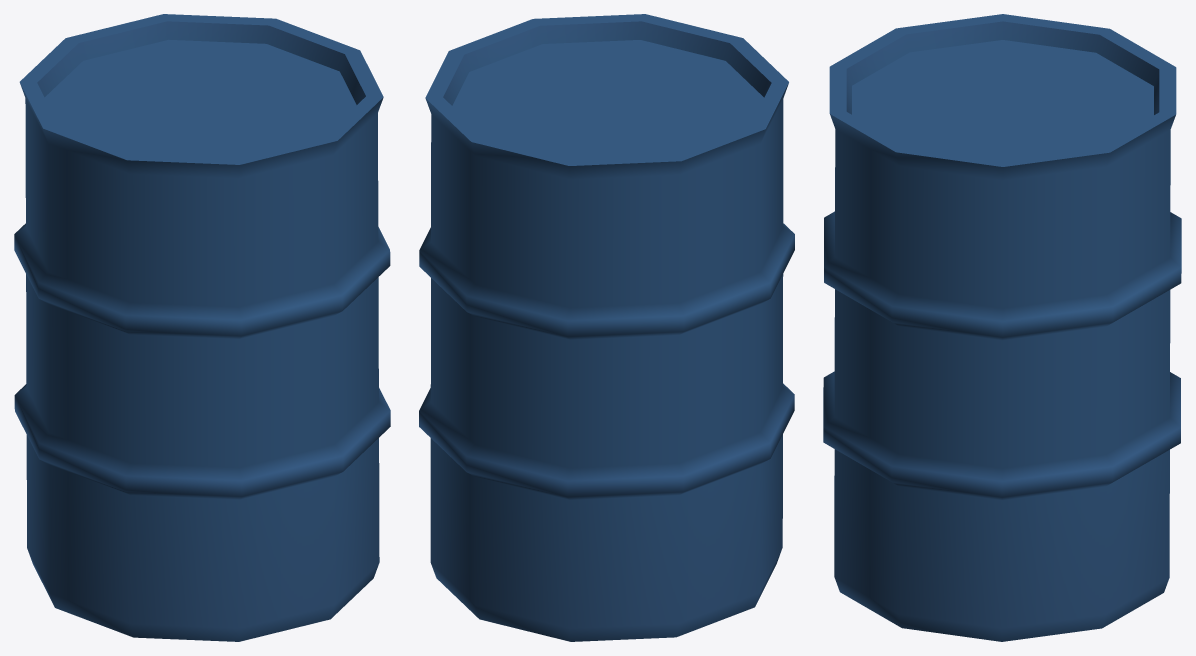
The model's file is yard_drum-yFq4kyEz.glb.
3 views of the same model, side by side, from view 1: azimuth 30°, elevation 25°; view 2: azimuth 150°, elevation 25°; view 3: azimuth 270°, elevation 25° (orthographic).
Parts seen in each view (by area): view 1: yard_drum; view 2: yard_drum; view 3: yard_drum.
Part boxes in pixels (<box>): yard_drum: <box>14,14,390,641</box>; yard_drum: <box>419,14,794,641</box>; yard_drum: <box>823,14,1181,641</box>.
Bounding box in the file's own units: 0.6408 × 0.9019 × 0.6094.
